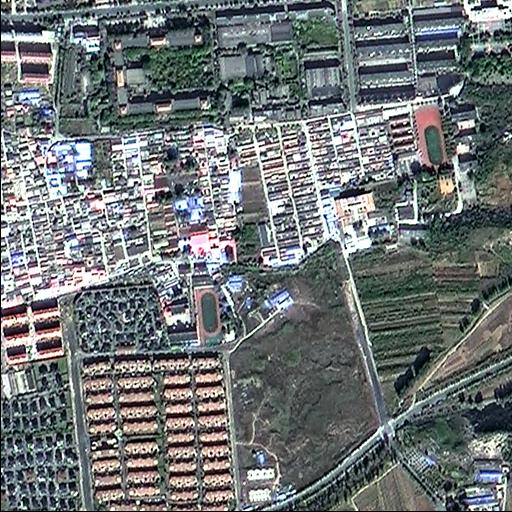school: (412, 94, 486, 172), (159, 262, 223, 351)
